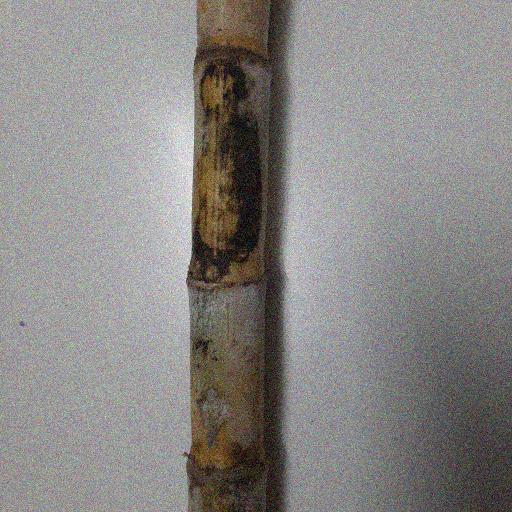Bud: (204, 266, 222, 285)
